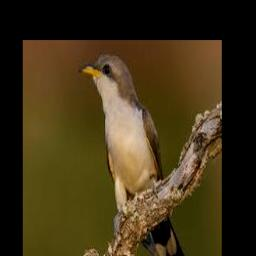Cuckoo: (79, 55, 195, 256)
